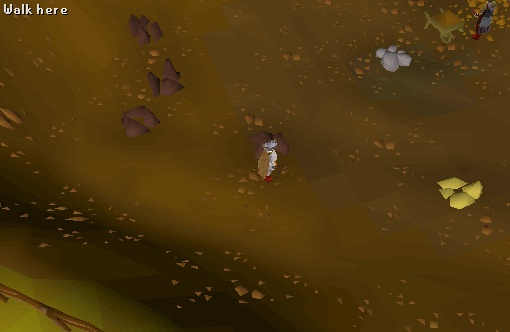gold: (430, 167, 493, 217)
iron: (136, 56, 192, 100), (115, 101, 164, 139)
